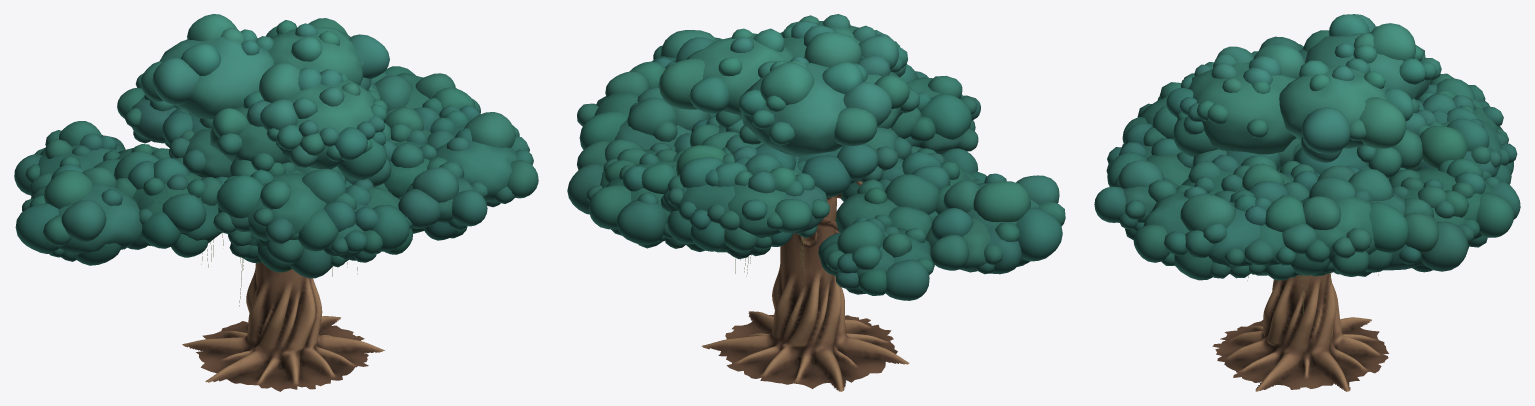
File: arvore-mae-gomospintada.glb
The picture shows the model from 3 angles, left to right: view 1: azimuth 30°, elevation 25°; view 2: azimuth 150°, elevation 25°; view 3: azimuth 270°, elevation 25°; orthographic projection. The views are drawn at different scales.
Visible parts, largest first — view 1: copa_mae, TRONCO_MAE_RAIZ; view 2: copa_mae, TRONCO_MAE_RAIZ; view 3: copa_mae, TRONCO_MAE_RAIZ.
Part boxes in pixels (<box>): copa_mae: <box>14,14,538,278</box>; TRONCO_MAE_RAIZ: <box>182,233,384,391</box>; copa_mae: <box>567,14,1065,300</box>; TRONCO_MAE_RAIZ: <box>701,181,909,391</box>; copa_mae: <box>1094,14,1520,280</box>; TRONCO_MAE_RAIZ: <box>1212,272,1388,391</box>.
Size of the model in its own units: 71.62 by 47.23 by 57.88.
